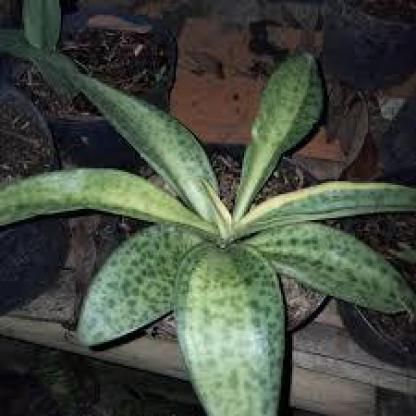Melati: (1, 89, 273, 392)
